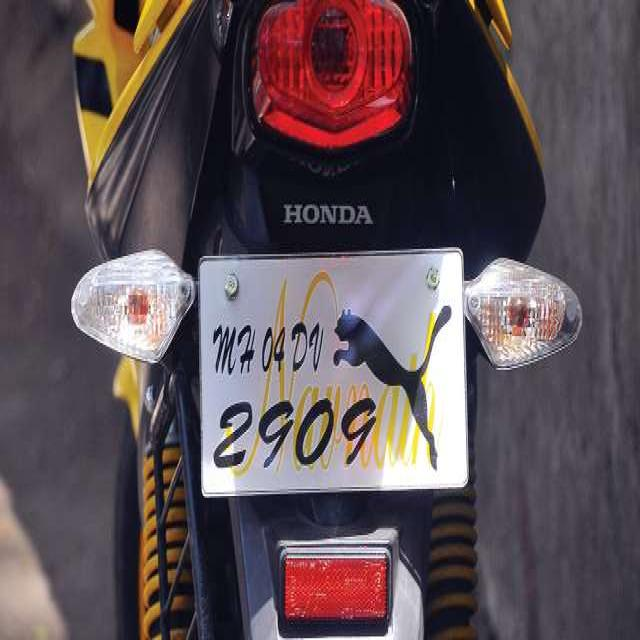license_plate: (197, 246, 469, 500)
